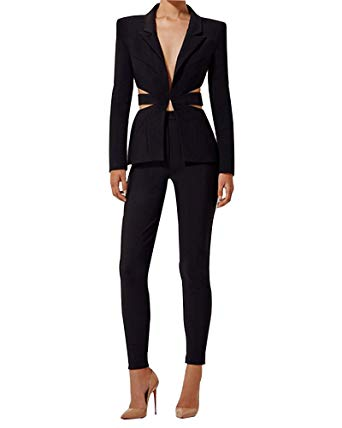feet: (111, 343, 211, 421)
